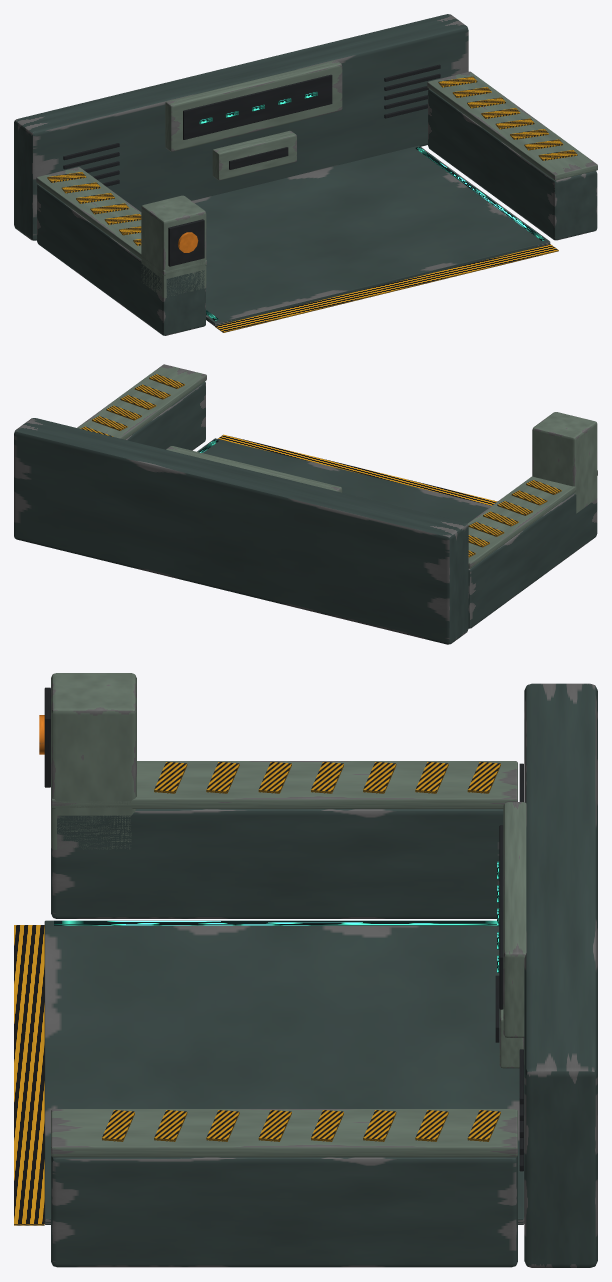
File: THStage_ExtractionBay.fbx
3 renders of one model, top to bottom at view 1: azimuth 30°, elevation 25°; view 2: azimuth 150°, elevation 25°; view 3: azimuth 270°, elevation 25°, orthographic. The views are drawn at different scales.
Parts seen in each view (by area): view 1: THStage_ExtractionBay; view 2: THStage_ExtractionBay; view 3: THStage_ExtractionBay.
Boxes of the visible parts, box(x1,y1,x2,y2) form: THStage_ExtractionBay: box(14, 14, 597, 335); THStage_ExtractionBay: box(14, 364, 597, 644); THStage_ExtractionBay: box(14, 673, 597, 1267).
Bounding box in the file's own units: 3 × 0.76 × 1.9.
